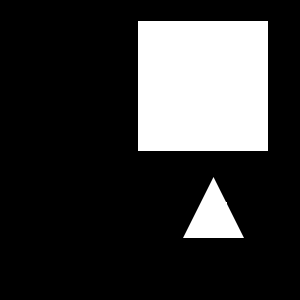circle: (138, 21, 268, 151), (206, 202, 227, 223)
triangle: (183, 177, 244, 238)
